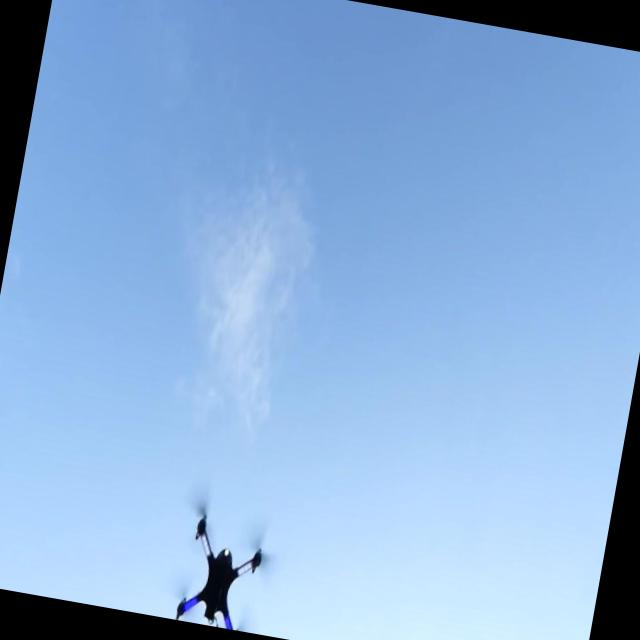drone: (174, 509, 270, 633)
